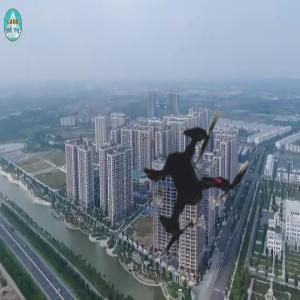drone: (85, 77, 300, 293)
